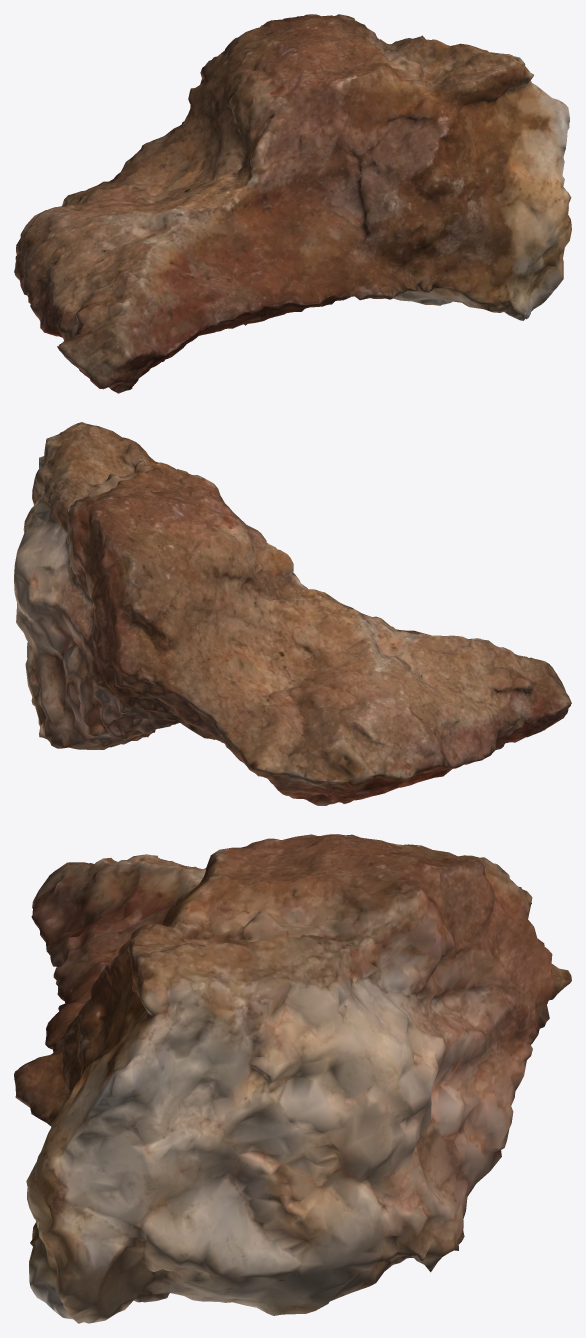
File: stone_01.glb
The picture shows the model from 3 angles, top to bottom: view 1: azimuth 30°, elevation 25°; view 2: azimuth 150°, elevation 25°; view 3: azimuth 270°, elevation 25°; orthographic projection. The views are drawn at different scales.
Visible parts, largest first — view 1: stone_01; view 2: stone_01; view 3: stone_01.
Boxes of the visible parts, x1,y1,x2,y2 form: stone_01: [14, 14, 571, 393]; stone_01: [14, 422, 571, 805]; stone_01: [14, 834, 571, 1323].
Bounding box in the file's own units: 0.1469 × 0.0718 × 0.0891.
Materials: 1 (1 with a texture image).
